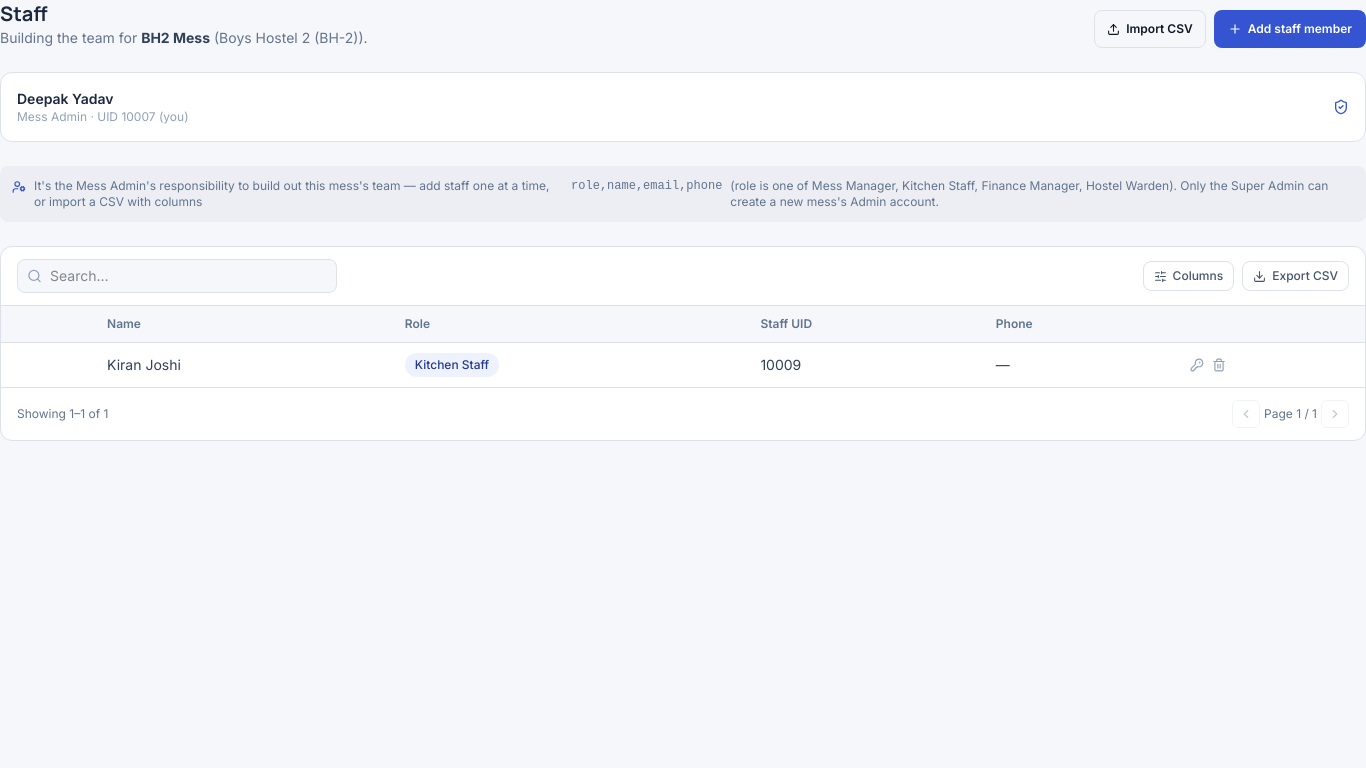
Test case: Staff — credentials are actually shown › an Admin can issue a new temporary password for a team member and sees it once
Expected: the text "Kiran Joshi" is shown, [91,342,389,387]
Click the button named "reset password for kiran joshi" at (1197, 365), box [1190,358,1204,372]
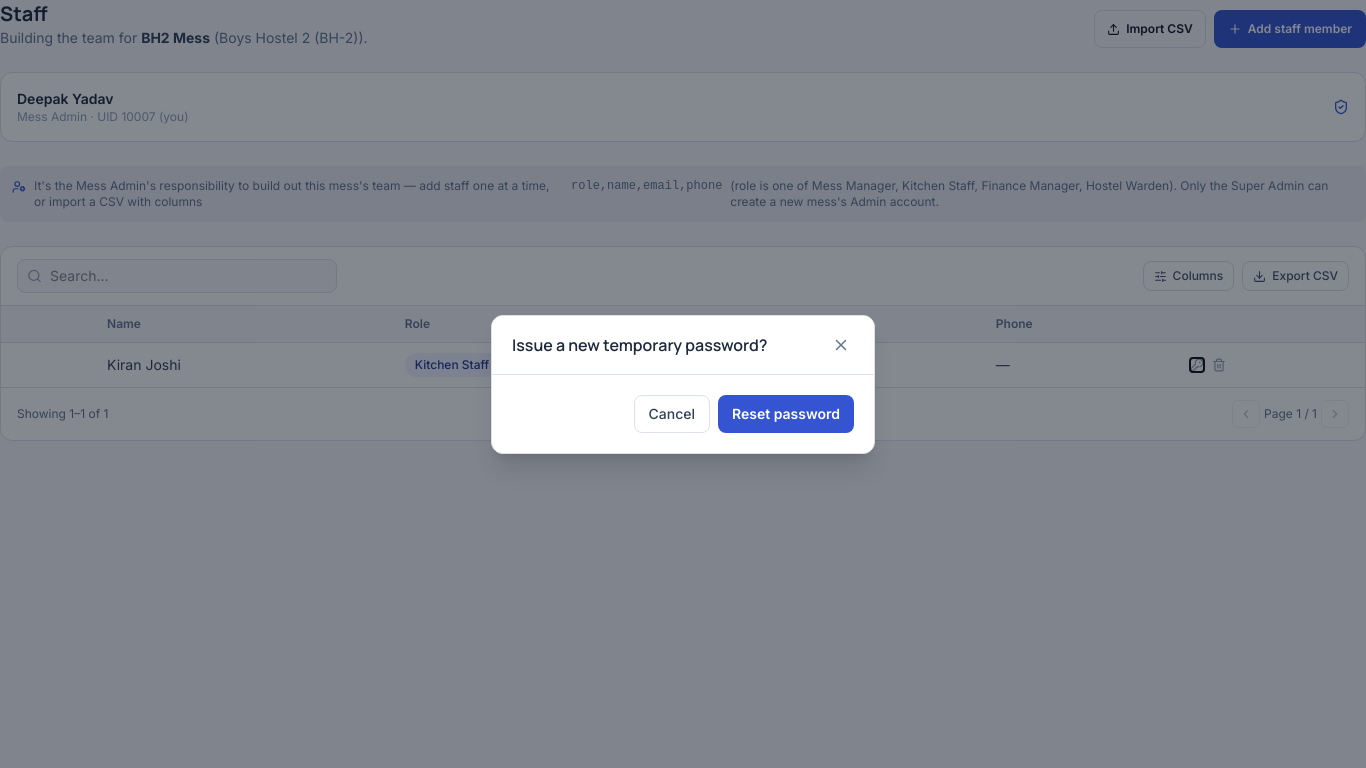
Click the button "Reset password" at (786, 414), box [718,394,854,432]
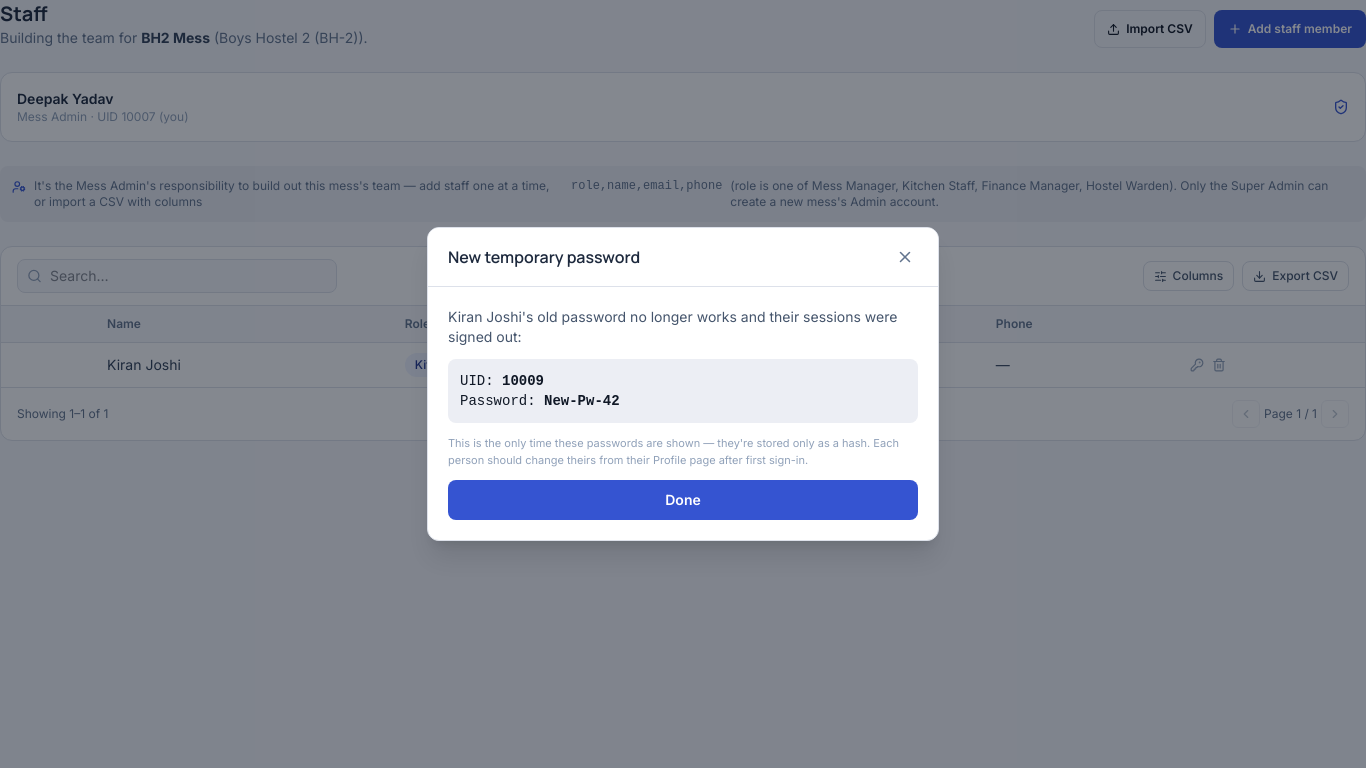
Now the element with test id "credentials-list" shows "New-Pw-42", box [544,393,620,409]
